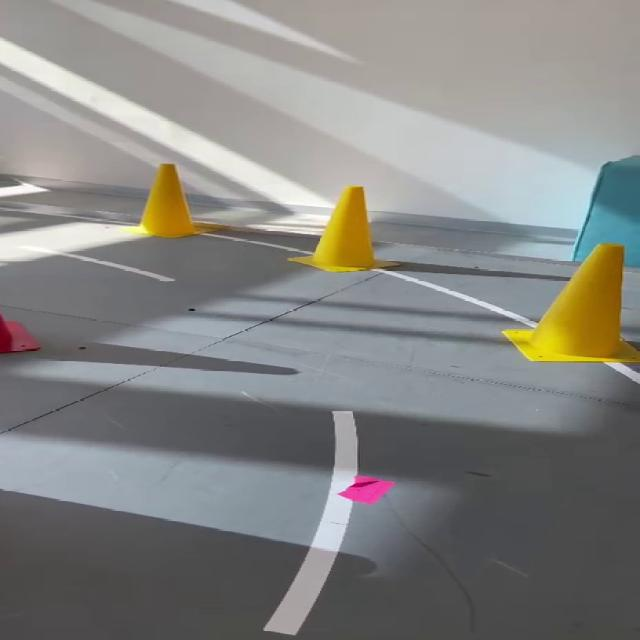Cone-red: (0, 313, 39, 353)
Cones-yellow: (502, 244, 639, 362), (290, 186, 386, 272), (124, 164, 226, 238)
